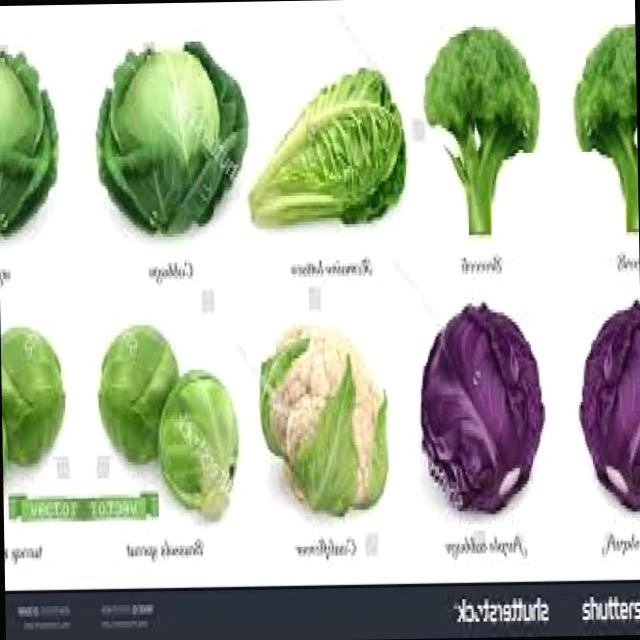healthy: (93, 32, 252, 234), (243, 56, 401, 244), (0, 35, 60, 235)
